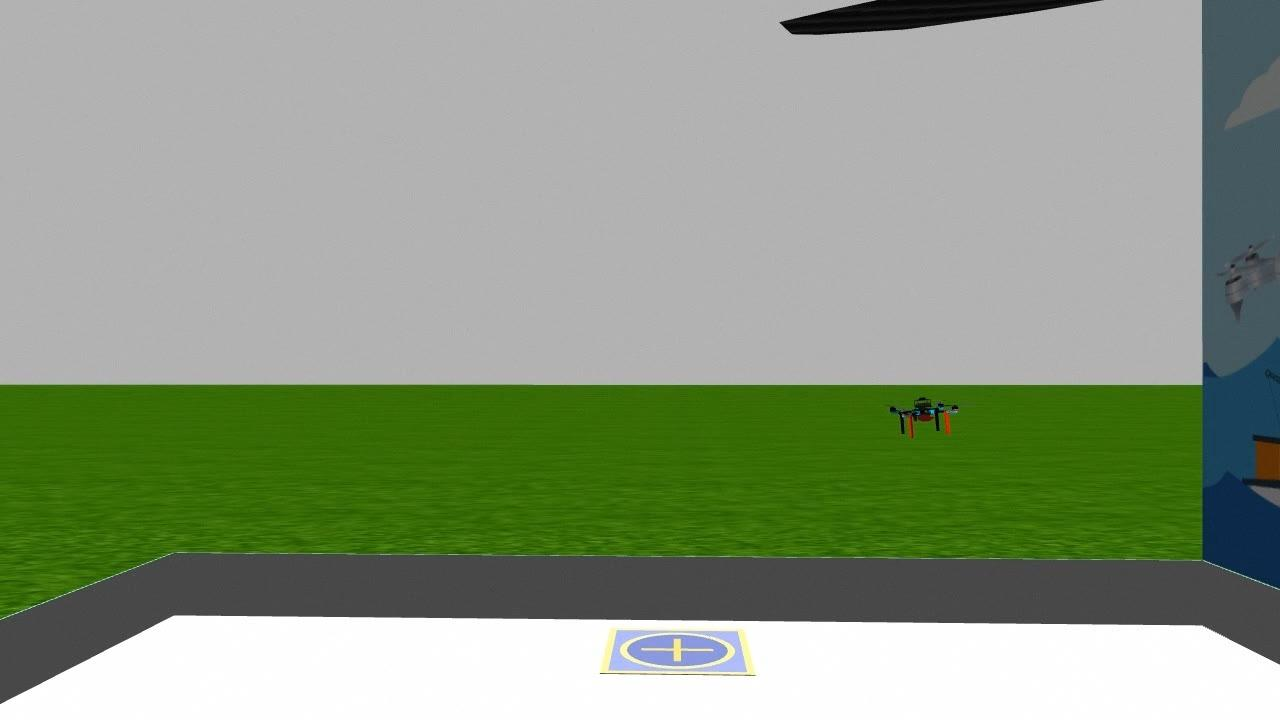UAV: (880, 387, 970, 446)
